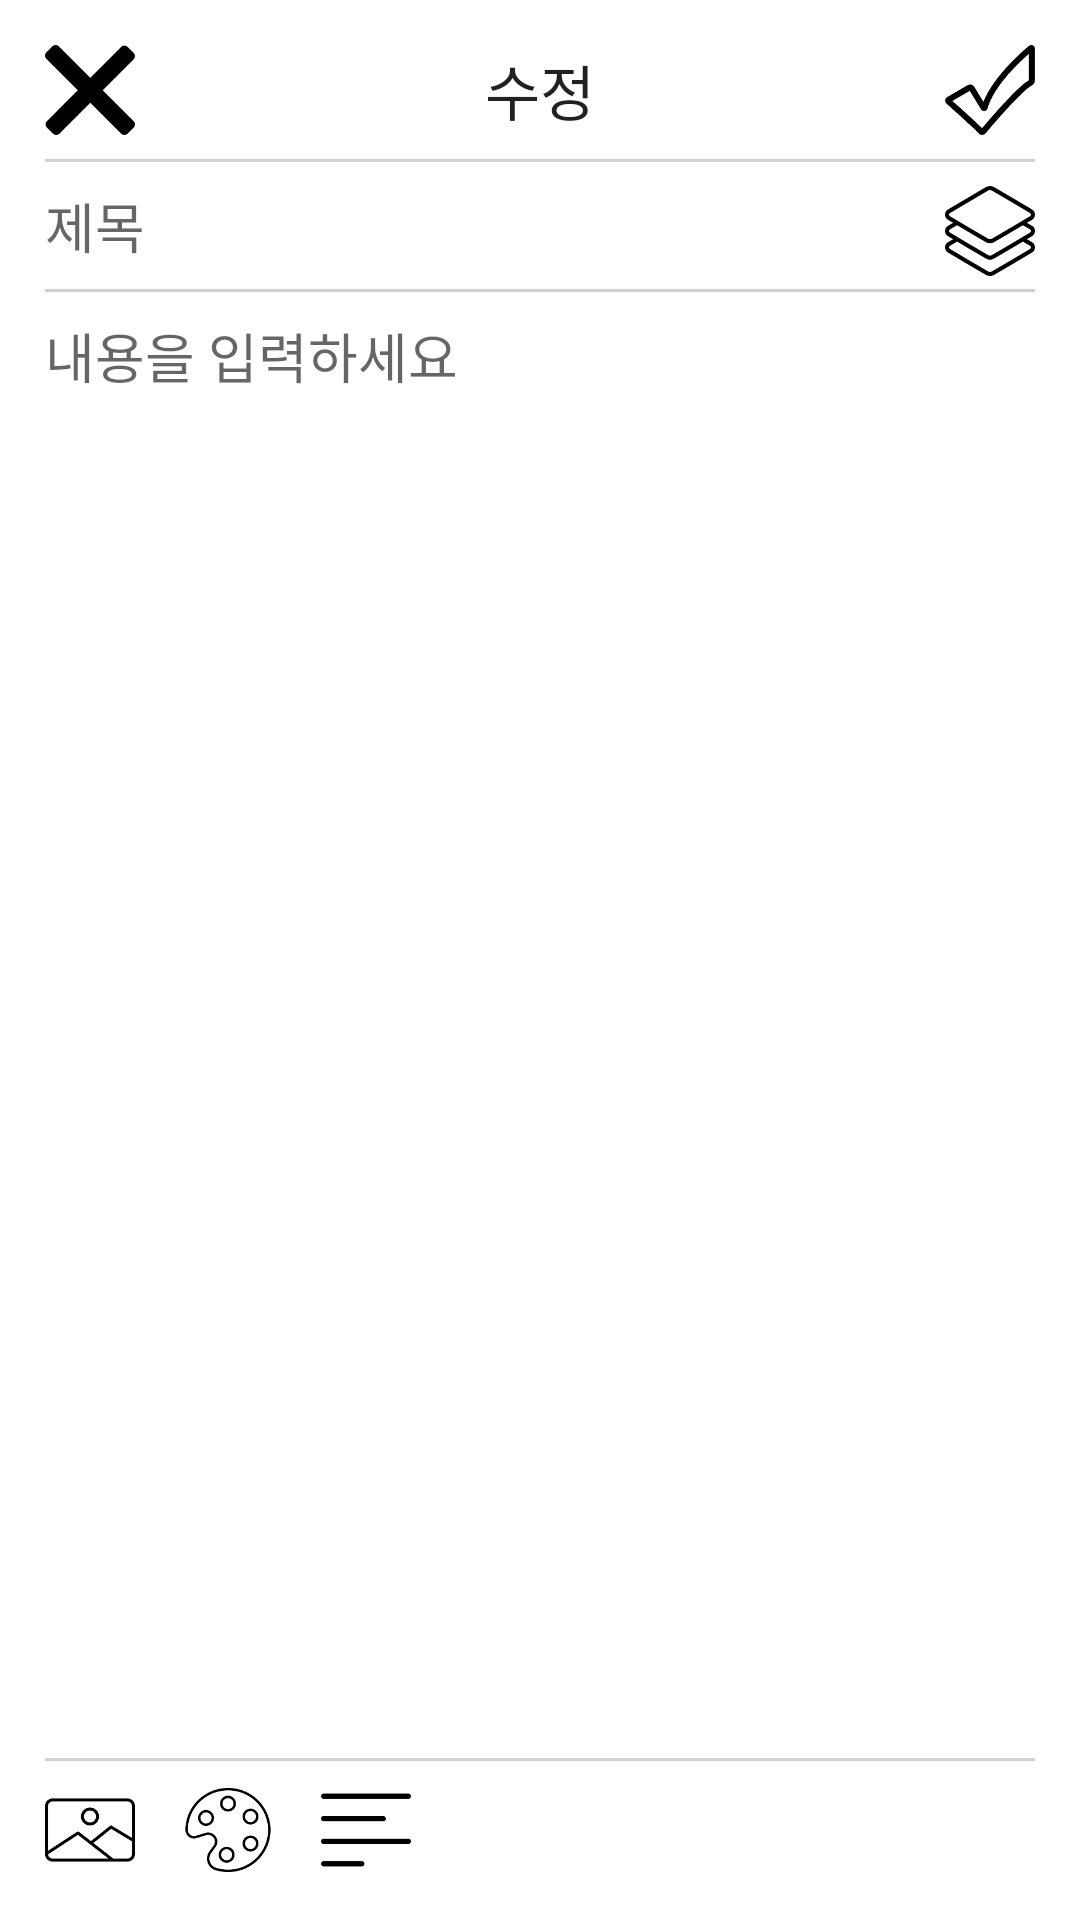

Point at icon controls on the screen. Image size 1080w x 1920h, points as (x=x, y=y).
align: (x=366, y=1830)
close: (x=90, y=90)
photo: (x=90, y=1830)
